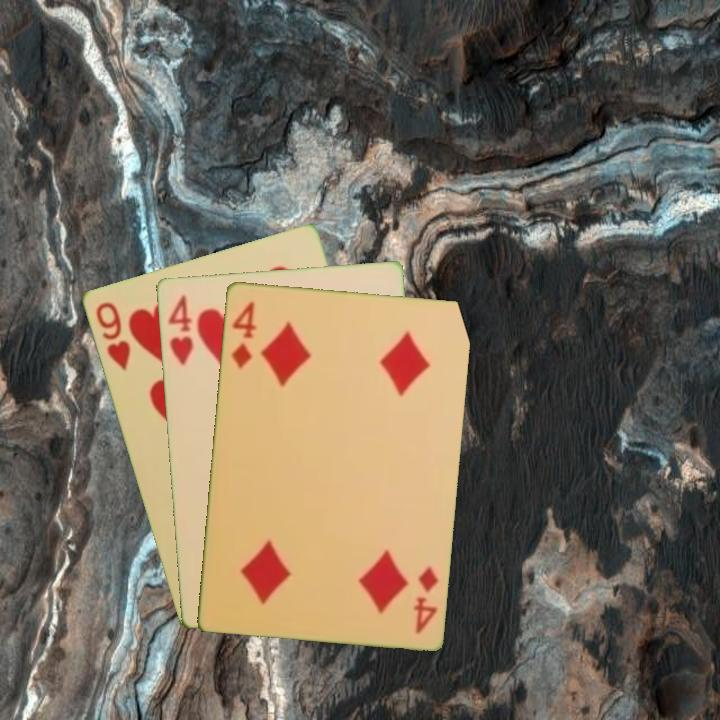4d: (409, 562, 441, 637), (228, 297, 259, 371)
4h: (164, 291, 195, 368)
9h: (91, 298, 133, 373)
